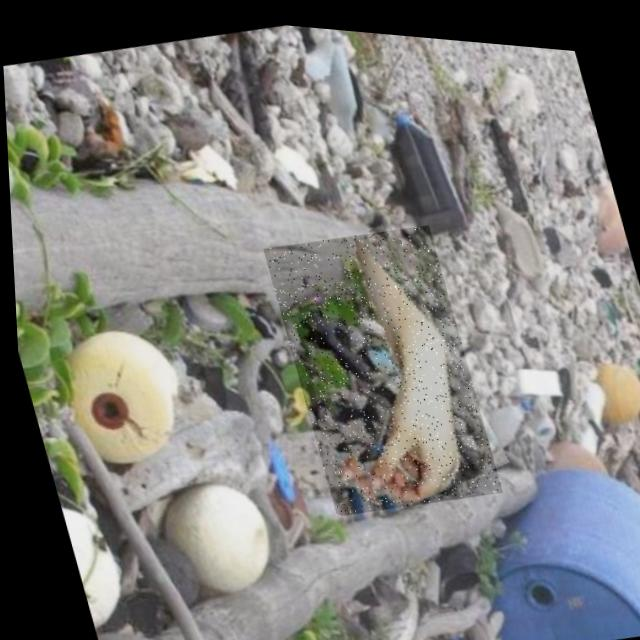Person in Rubble: (258, 205, 498, 522)
